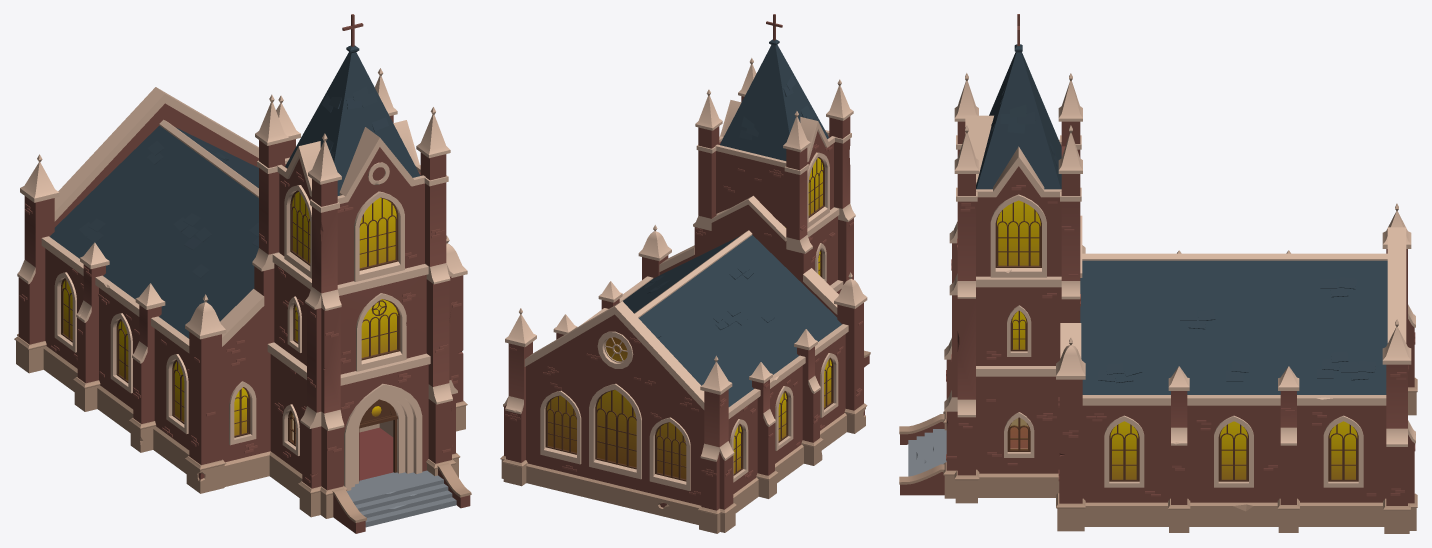
The model's file is SM_Buildings_Church_01.fbx.
3 views of the same model, side by side, from view 1: azimuth 30°, elevation 25°; view 2: azimuth 150°, elevation 25°; view 3: azimuth 270°, elevation 25° (orthographic). The views are drawn at different scales.
Parts seen in each view (by area): view 1: SM_Buildings_Church_01; view 2: SM_Buildings_Church_01; view 3: SM_Buildings_Church_01.
Part boxes in pixels (<box>): SM_Buildings_Church_01: <box>14,14,471,533</box>; SM_Buildings_Church_01: <box>500,14,870,533</box>; SM_Buildings_Church_01: <box>899,14,1417,533</box>.
Bounding box in the file's own units: 11.52 × 18.25 × 18.93.
